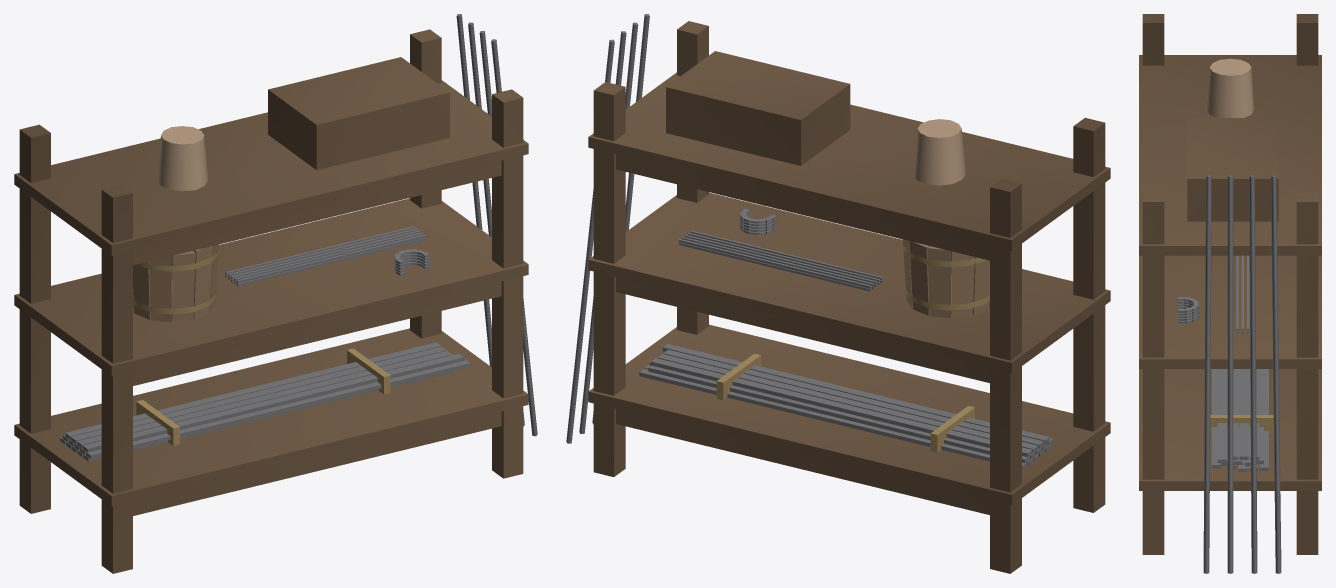
Rendered from kalev_smithy_stock_rack.glb.
The picture shows the model from 3 angles, left to right: view 1: azimuth 30°, elevation 25°; view 2: azimuth 150°, elevation 25°; view 3: azimuth 270°, elevation 25°; orthographic projection. The views are drawn at different scales.
Parts seen in each view (by area): view 1: kalev_smithy_stock_rack_oak, kalev_smithy_stock_rack_iron, kalev_smithy_stock_rack_clay, kalev_smithy_stock_rack_straw; view 2: kalev_smithy_stock_rack_oak, kalev_smithy_stock_rack_iron, kalev_smithy_stock_rack_clay, kalev_smithy_stock_rack_straw; view 3: kalev_smithy_stock_rack_oak, kalev_smithy_stock_rack_iron, kalev_smithy_stock_rack_clay, kalev_smithy_stock_rack_straw.
Boxes of the visible parts, box(x1,y1,x2,y2) form: kalev_smithy_stock_rack_oak: box(14, 29, 528, 573); kalev_smithy_stock_rack_iron: box(60, 14, 537, 461); kalev_smithy_stock_rack_clay: box(157, 126, 208, 191); kalev_smithy_stock_rack_straw: box(133, 246, 390, 445); kalev_smithy_stock_rack_oak: box(588, 21, 1110, 573); kalev_smithy_stock_rack_iron: box(566, 14, 1053, 469); kalev_smithy_stock_rack_clay: box(914, 119, 965, 185); kalev_smithy_stock_rack_straw: box(716, 241, 989, 452); kalev_smithy_stock_rack_oak: box(1139, 14, 1321, 554); kalev_smithy_stock_rack_iron: box(1177, 175, 1281, 573); kalev_smithy_stock_rack_clay: box(1206, 58, 1253, 117); kalev_smithy_stock_rack_straw: box(1210, 415, 1273, 434).
Bounding box in the file's own units: 2.08 × 1.75 × 0.76.
